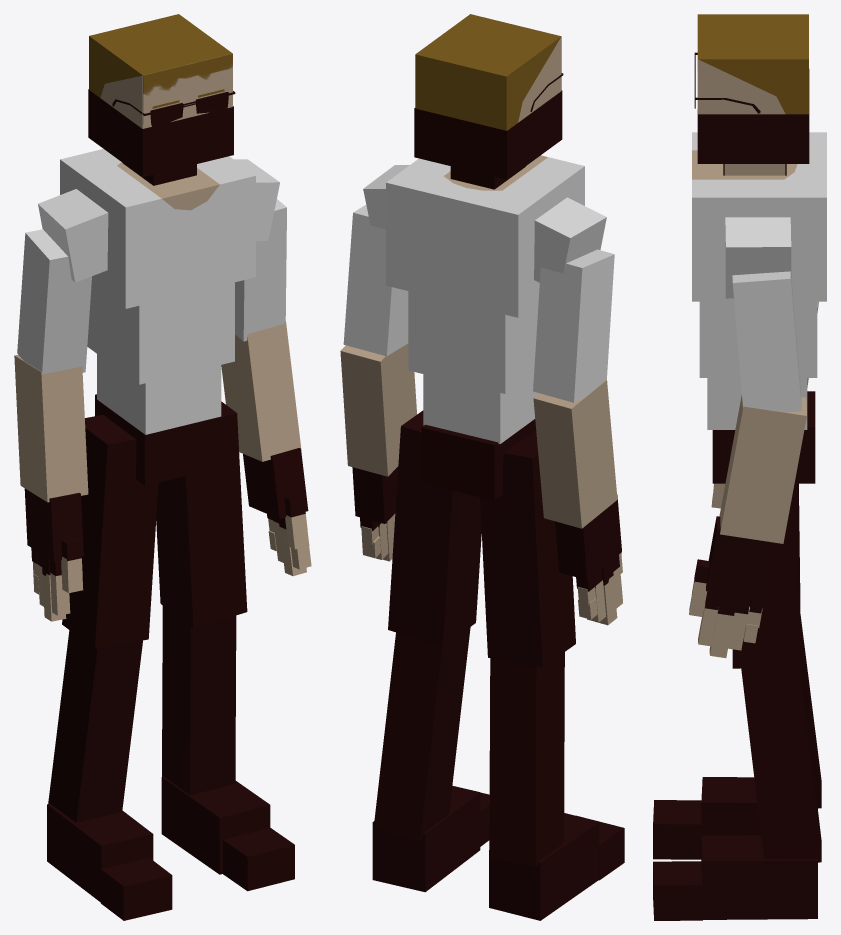
Rendered from phil_timsky.glb.
3 renders of one model, left to right at view 1: azimuth 30°, elevation 25°; view 2: azimuth 150°, elevation 25°; view 3: azimuth 270°, elevation 25°, orthographic. The views are drawn at different scales.
Parts seen in each view (by area): view 1: Geode; view 2: Geode; view 3: Geode.
Part boxes in pixels (x1,y1,x2,y2): Geode: (14,14,311,920); Geode: (340,14,624,920); Geode: (653,14,826,920).
Size of the model in its own units: 6.87 by 21.98 by 4.12.
